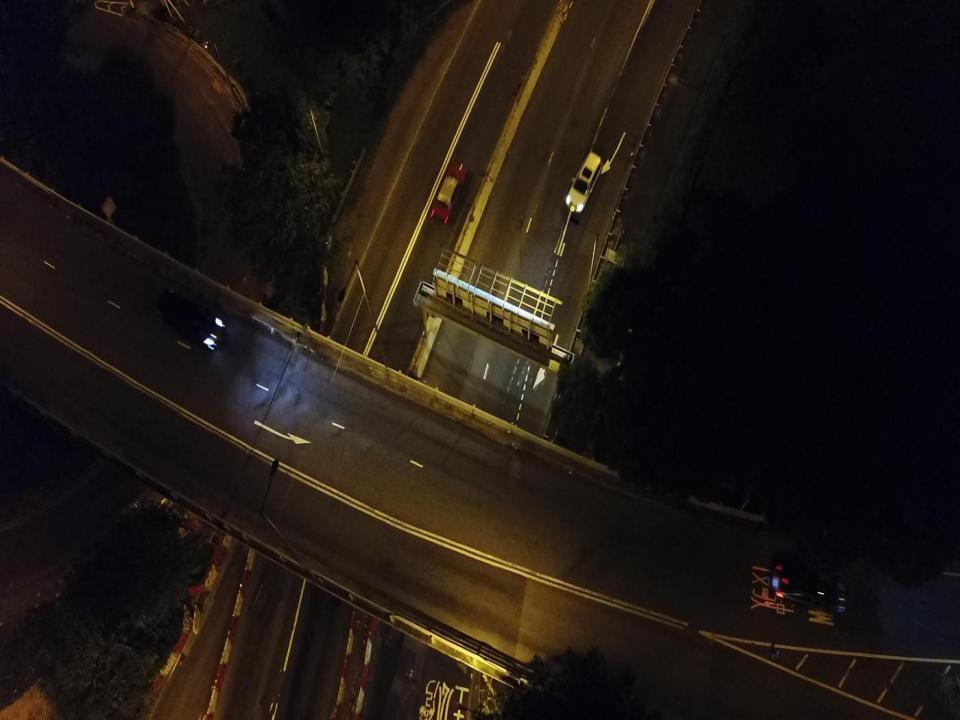car: (772, 552, 847, 618), (158, 291, 225, 348), (564, 147, 602, 216), (431, 159, 467, 225)
